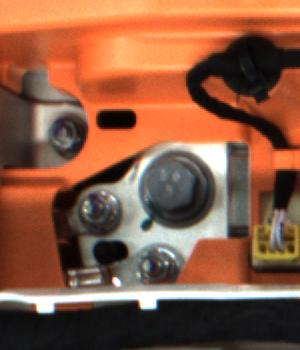nut_b: (139, 150, 217, 227)
screw_s: (134, 240, 175, 287), (45, 117, 85, 161), (72, 189, 114, 227)
